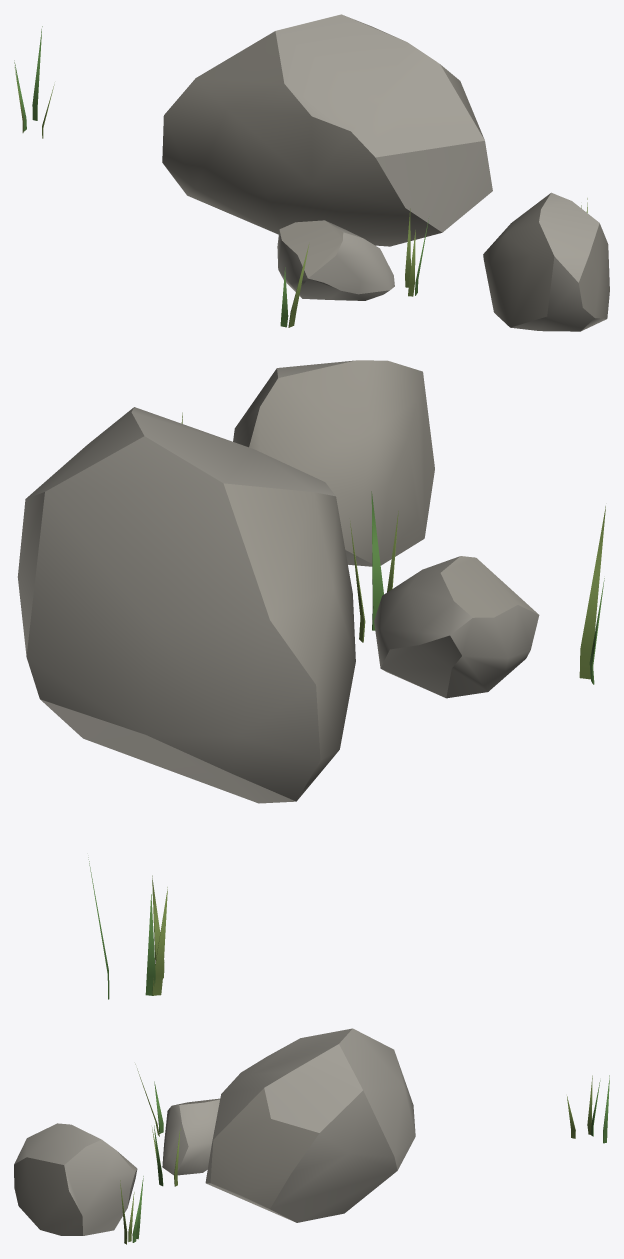
The model's file is Rock.fbx.
3 views of the same model, one above another, from view 1: azimuth 30°, elevation 25°; view 2: azimuth 150°, elevation 25°; view 3: azimuth 270°, elevation 25° (orthographic). The views are drawn at different scales.
Visible parts, largest first — view 1: 03_Rocks; view 2: 03_Rocks; view 3: 03_Rocks.
Boxes of the visible parts, x1,y1,x2,y2 form: 03_Rocks: (14, 14, 609, 331); 03_Rocks: (17, 360, 605, 999); 03_Rocks: (14, 1028, 609, 1244).
Bounding box in the file's own units: 28.68 × 18.52 × 63.86.
